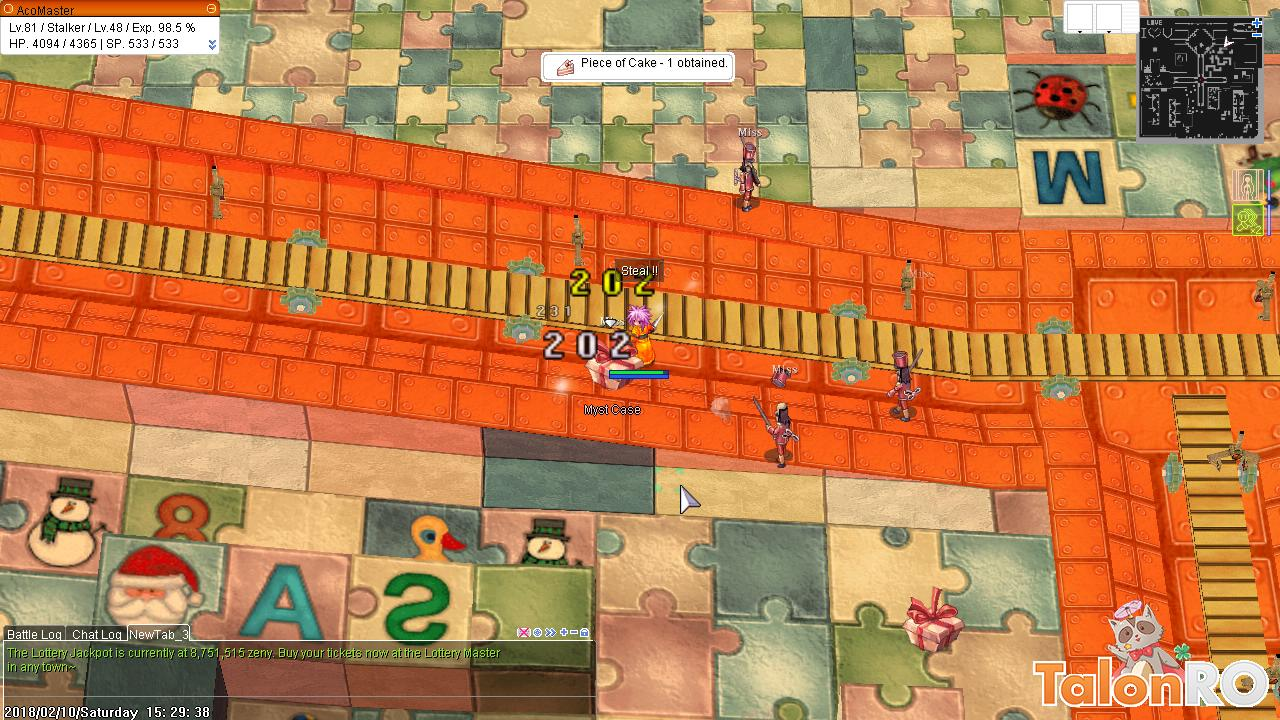mob: (752, 362, 800, 475), (884, 341, 928, 430), (729, 129, 769, 214)
myst_case: (901, 583, 969, 658), (578, 334, 646, 396)
